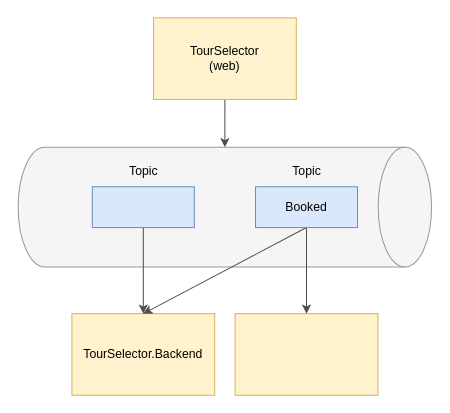
Image size: 450x413. Some labels were removed from this diagram. Each missing label, with the centre of its shape:
Cancelled: [142,207]
EmailService: [306,354]
